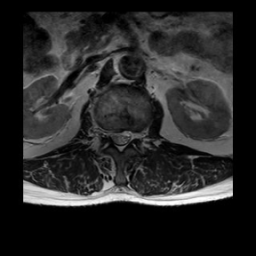CCS_normal: (117, 121, 124, 158)
LFS_normal: (132, 122, 140, 145)
LLS_normal: (124, 121, 132, 152)
RFS_normal: (102, 120, 110, 144)
RLS_normal: (110, 122, 117, 150)
